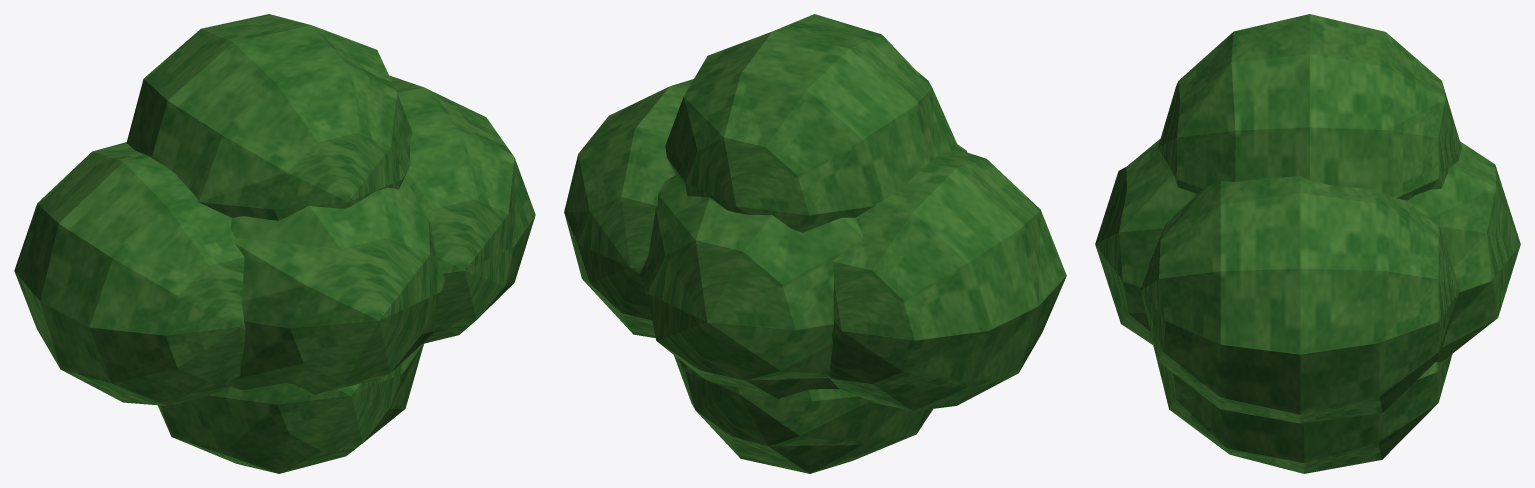
The model's file is SM_ShTreeCanopy.obj.
3 views of the same model, side by side, from view 1: azimuth 30°, elevation 25°; view 2: azimuth 150°, elevation 25°; view 3: azimuth 270°, elevation 25° (orthographic).
Parts seen in each view (by area): view 1: SM_ShTreeCanopy; view 2: SM_ShTreeCanopy; view 3: SM_ShTreeCanopy.
Boxes of the visible parts, x1,y1,x2,y2 form: SM_ShTreeCanopy: (14,14,535,473); SM_ShTreeCanopy: (564,14,1066,473); SM_ShTreeCanopy: (1095,14,1520,473).
Bounding box in the file's own units: 287 × 245 × 224.
1 material, 1 textured.
